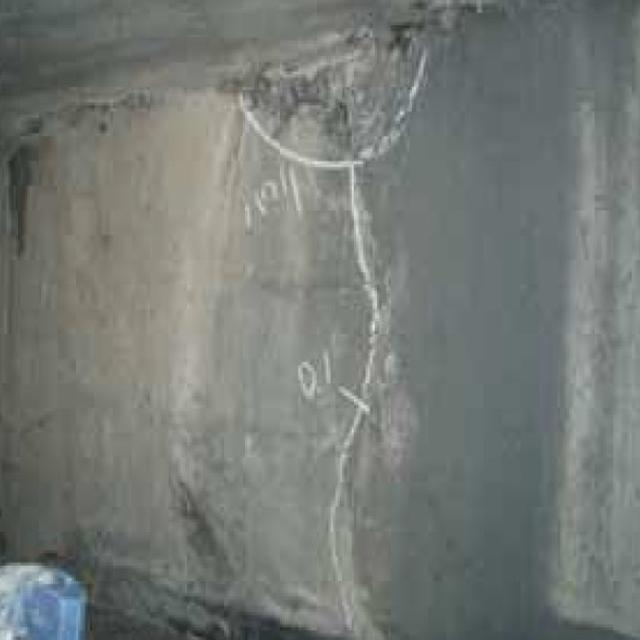crack: (340, 196, 407, 638)
spalling: (239, 7, 450, 167)
